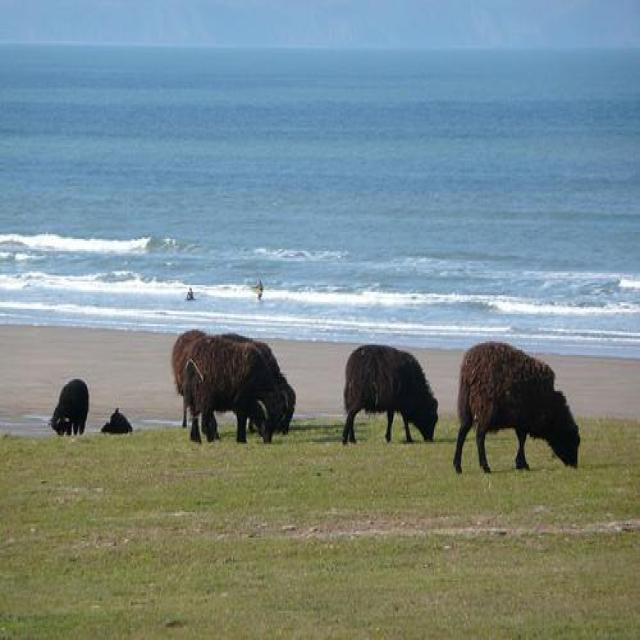Sheep: (452, 343, 578, 474), (182, 334, 283, 444), (343, 345, 439, 447)
